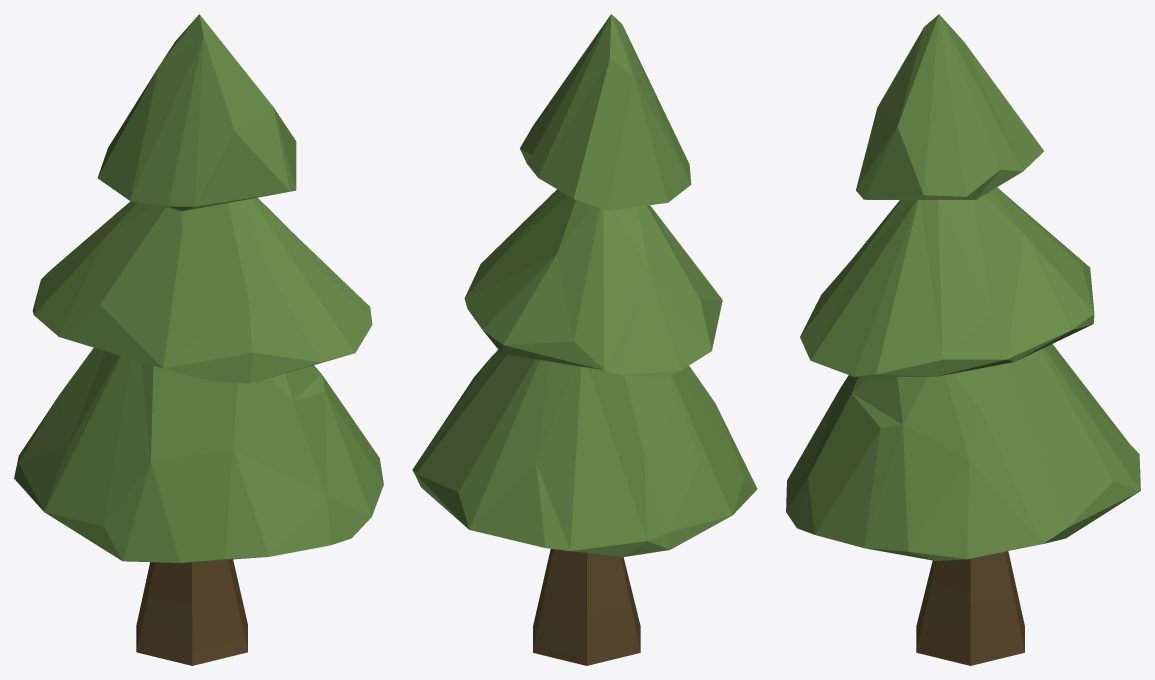
The model's file is green pine.fbx.
The picture shows the model from 3 angles, left to right: view 1: azimuth 30°, elevation 25°; view 2: azimuth 150°, elevation 25°; view 3: azimuth 270°, elevation 25°; orthographic projection. The views are drawn at different scales.
Visible parts, largest first — view 1: pCylinder1, pCylinder2; view 2: pCylinder1, pCylinder2; view 3: pCylinder1, pCylinder2.
Part boxes in pixels (bbox=[...]): pCylinder1: bbox=[14, 14, 383, 562]; pCylinder2: bbox=[136, 559, 247, 665]; pCylinder1: bbox=[412, 14, 757, 557]; pCylinder2: bbox=[533, 549, 640, 665]; pCylinder1: bbox=[786, 14, 1140, 560]; pCylinder2: bbox=[916, 551, 1024, 665].
Bounding box in the file's own units: 1.72 × 3.35 × 1.74.
